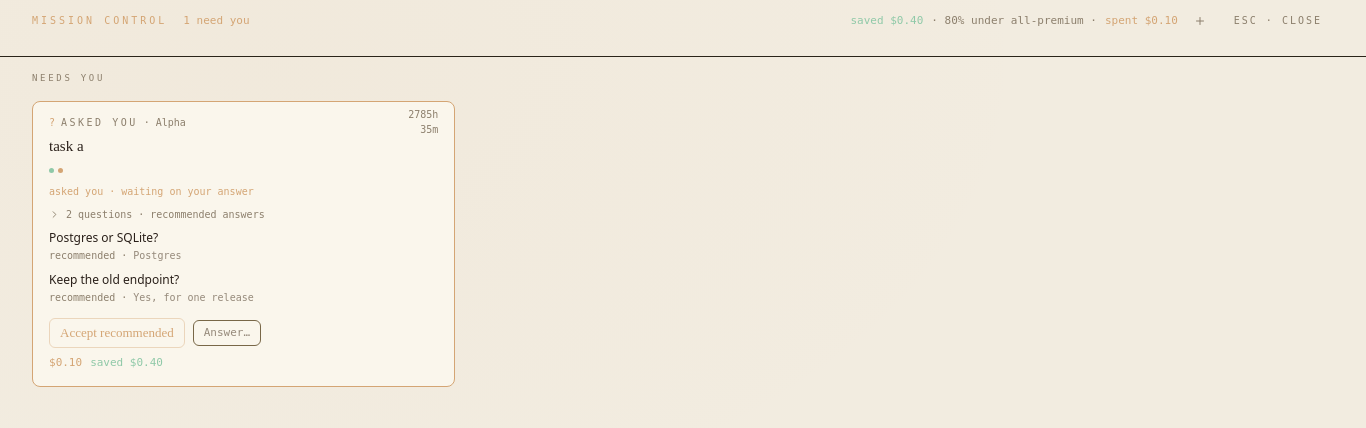
Test: MissionControl › a failed Accept says so on the card instead of failing silently
What coordinates should you click on to do the following:
click the button "2 questions · recommended answers"
I would click on:
 (157, 214)
Its box is [49, 206, 265, 222].
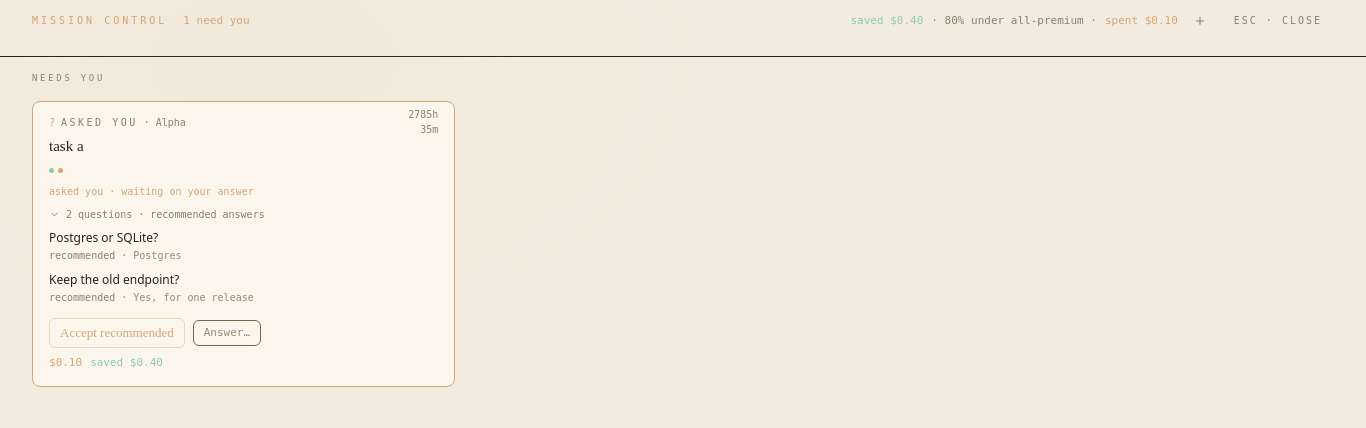
What coordinates should you click on to do the following:
click the button "Accept recommended"
I would click on:
 (117, 333)
Its box is [49, 318, 185, 348].
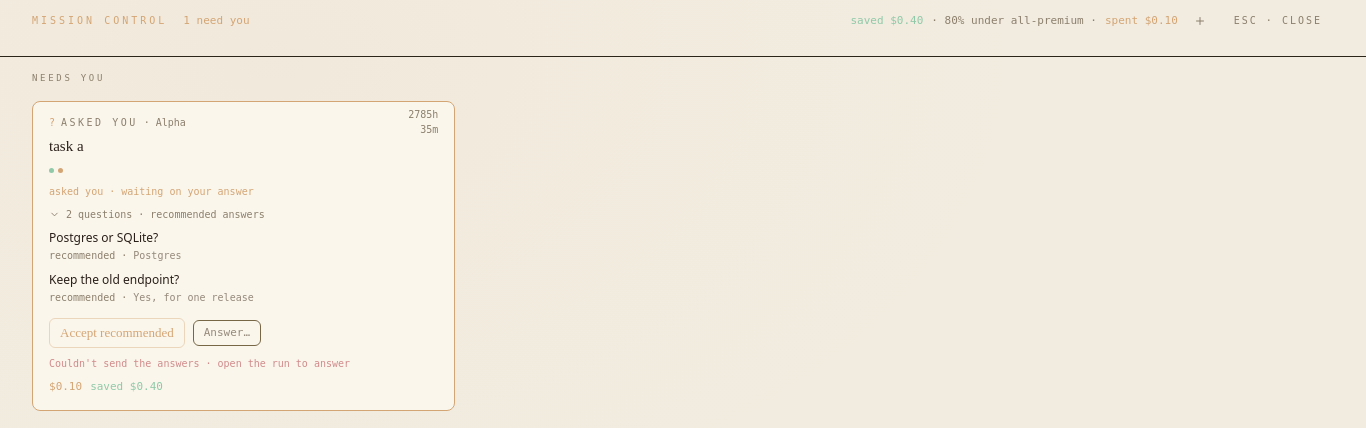
Check: the message reads "Couldn't send the answers · open the run to answer", box [49, 358, 350, 368]
